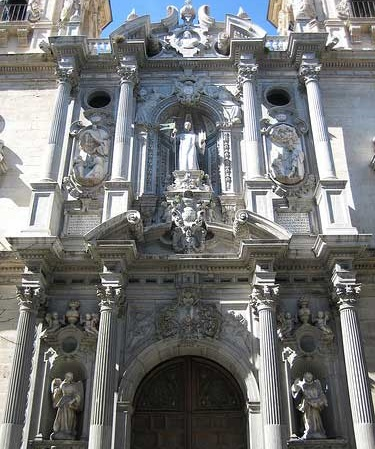arco-medio-punto: (120, 341, 257, 423), (152, 97, 224, 136)
fronton-partido: (81, 205, 299, 258), (109, 11, 276, 52)
ojo-de-buey: (264, 84, 295, 108), (82, 85, 113, 108)
